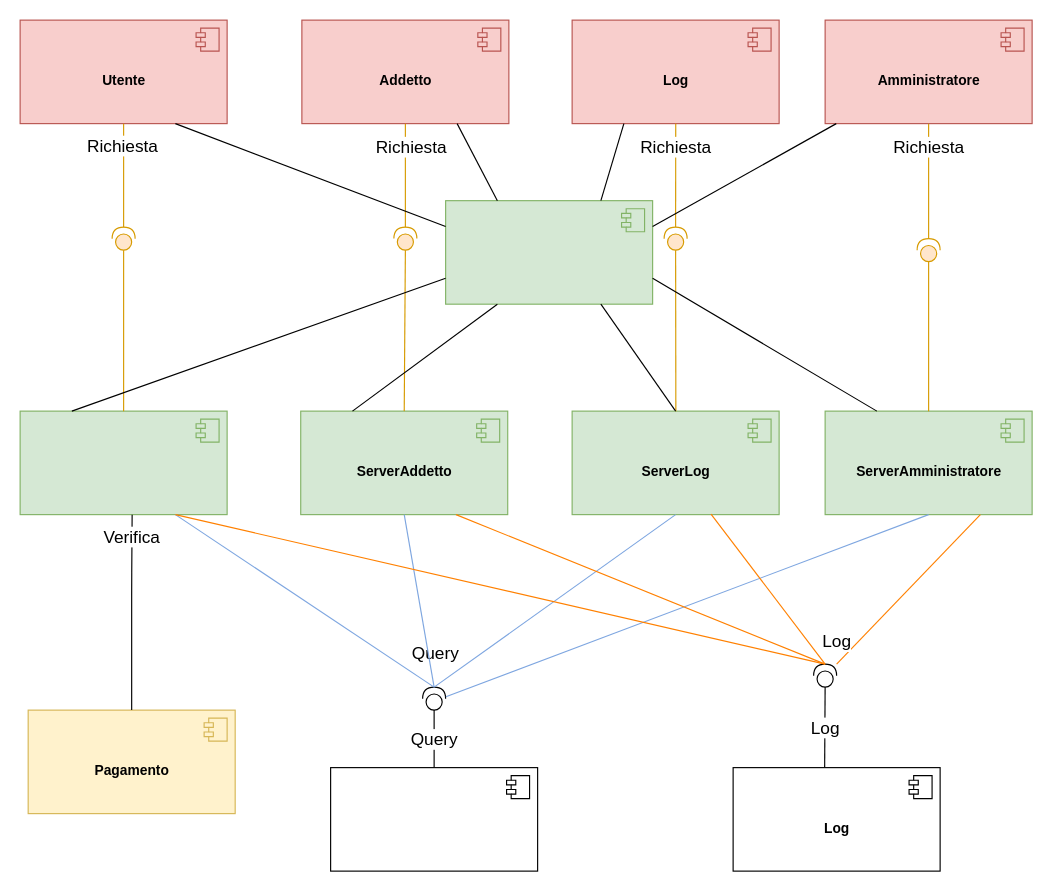
Some shapes in this 1052 by 891 pixel diagram are drawn without their labels. Each missing label, with the centre of its shape:
DBMS: the point at 433,818
ServerLogin: the point at 548,252
ServerUtente: the point at 123,462
